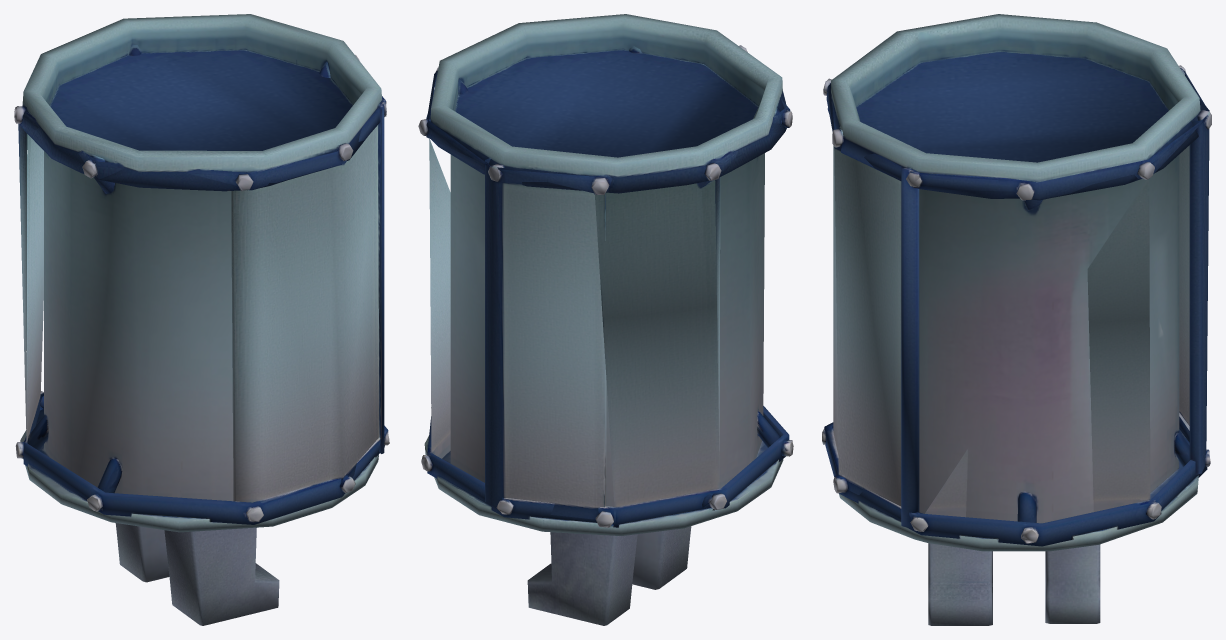
The model's file is pal_03.glb.
3 views of the same model, side by side, from view 1: azimuth 30°, elevation 25°; view 2: azimuth 150°, elevation 25°; view 3: azimuth 270°, elevation 25° (orthographic). The views are drawn at different scales.
Parts seen in each view (by area): view 1: tripo_node_3fde85cb-7f65-46bc-925d-77a20753baad; view 2: tripo_node_3fde85cb-7f65-46bc-925d-77a20753baad; view 3: tripo_node_3fde85cb-7f65-46bc-925d-77a20753baad.
Part boxes in pixels (x1,y1,x2,y2): tripo_node_3fde85cb-7f65-46bc-925d-77a20753baad: (14, 14, 389, 625); tripo_node_3fde85cb-7f65-46bc-925d-77a20753baad: (418, 14, 793, 625); tripo_node_3fde85cb-7f65-46bc-925d-77a20753baad: (822, 14, 1211, 625).
Bounding box in the file's own units: 0.6699 × 0.998 × 0.6816.
Materials: 1 (1 with a texture image).
